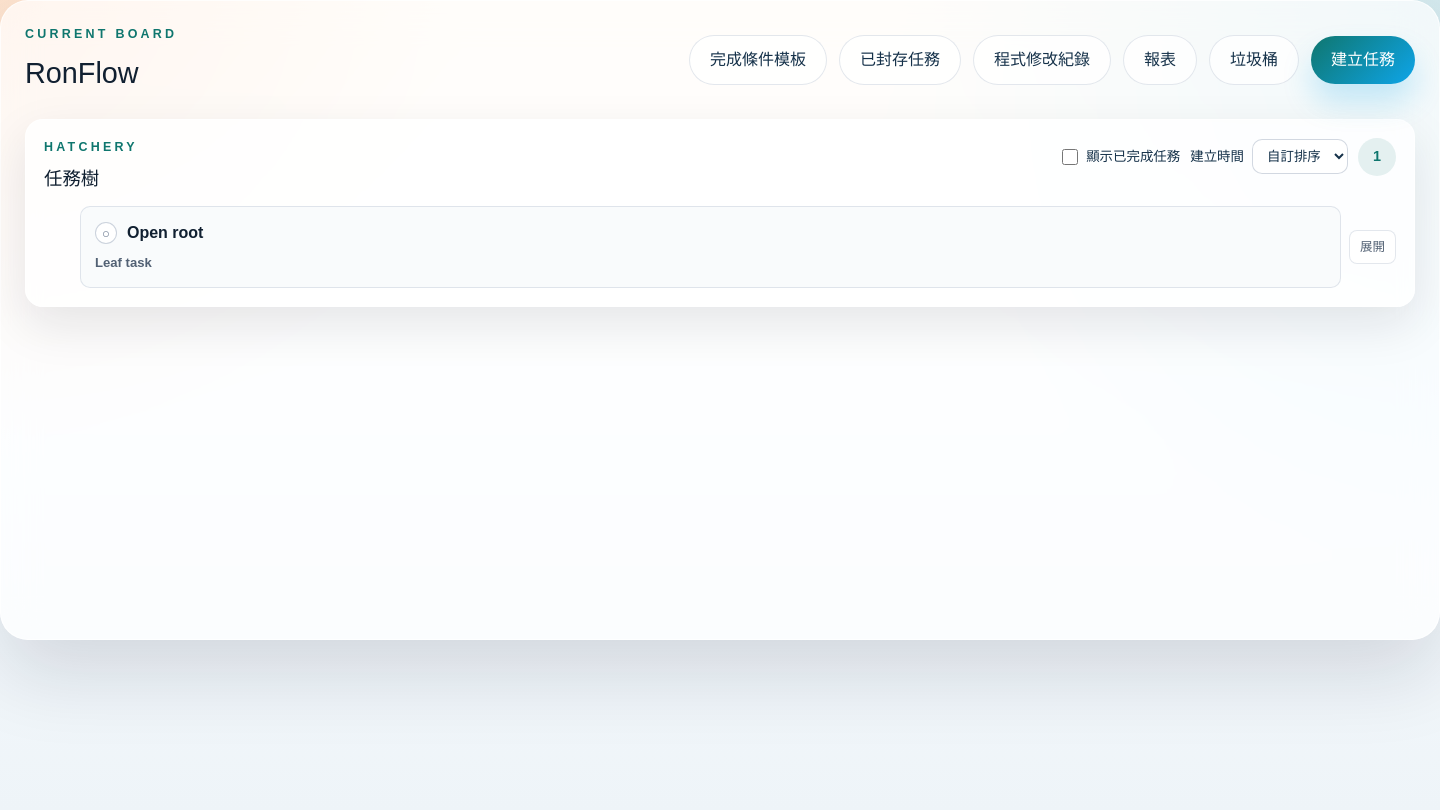
Test case: ProjectBoard › hides completed task tree branches by default and shows them collapsed when requested
Expected: the text "Completed root" is not shown
What coordinates should you click on to do the following:
click the checkbox with test id "show-completed-task-tree"
I would click on:
 (1070, 157)
Its box is left=1062, top=149, right=1078, bottom=165.
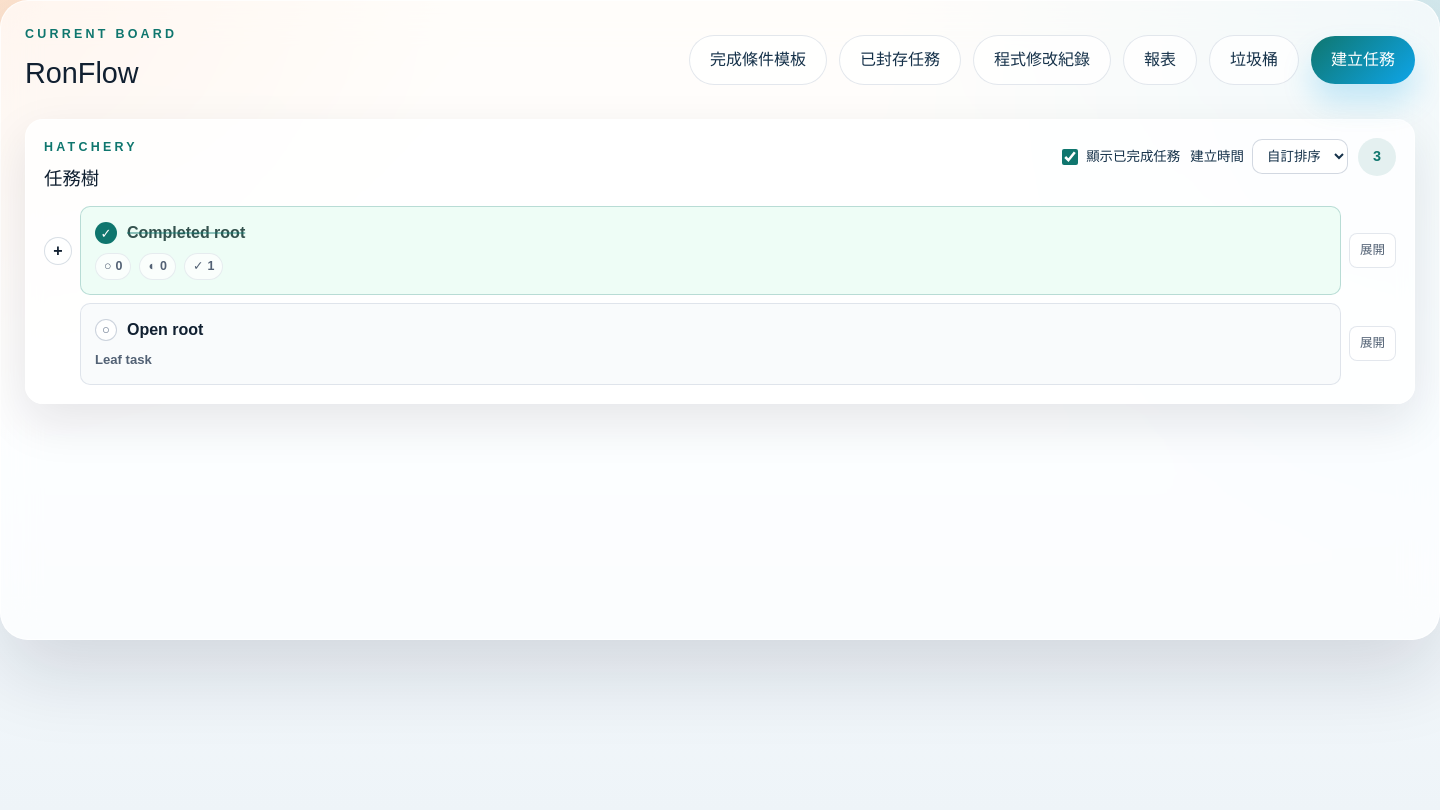
Now the text "Completed root" is shown, box left=127, top=224, right=245, bottom=241
